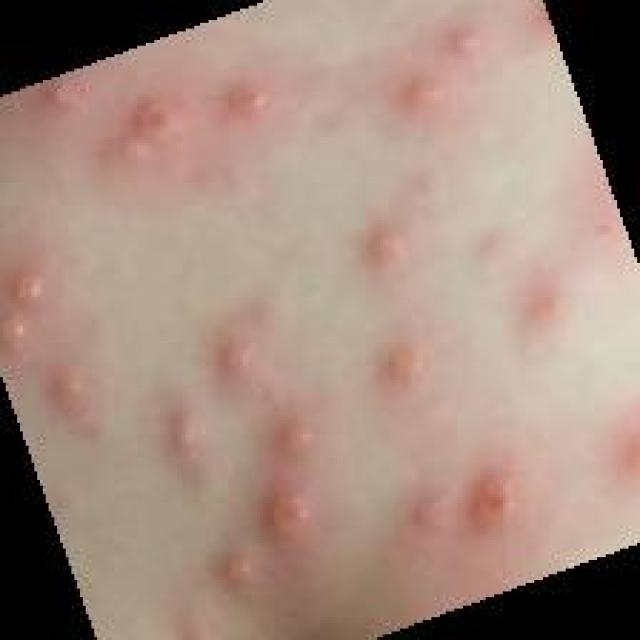others: (20, 65, 592, 569)
